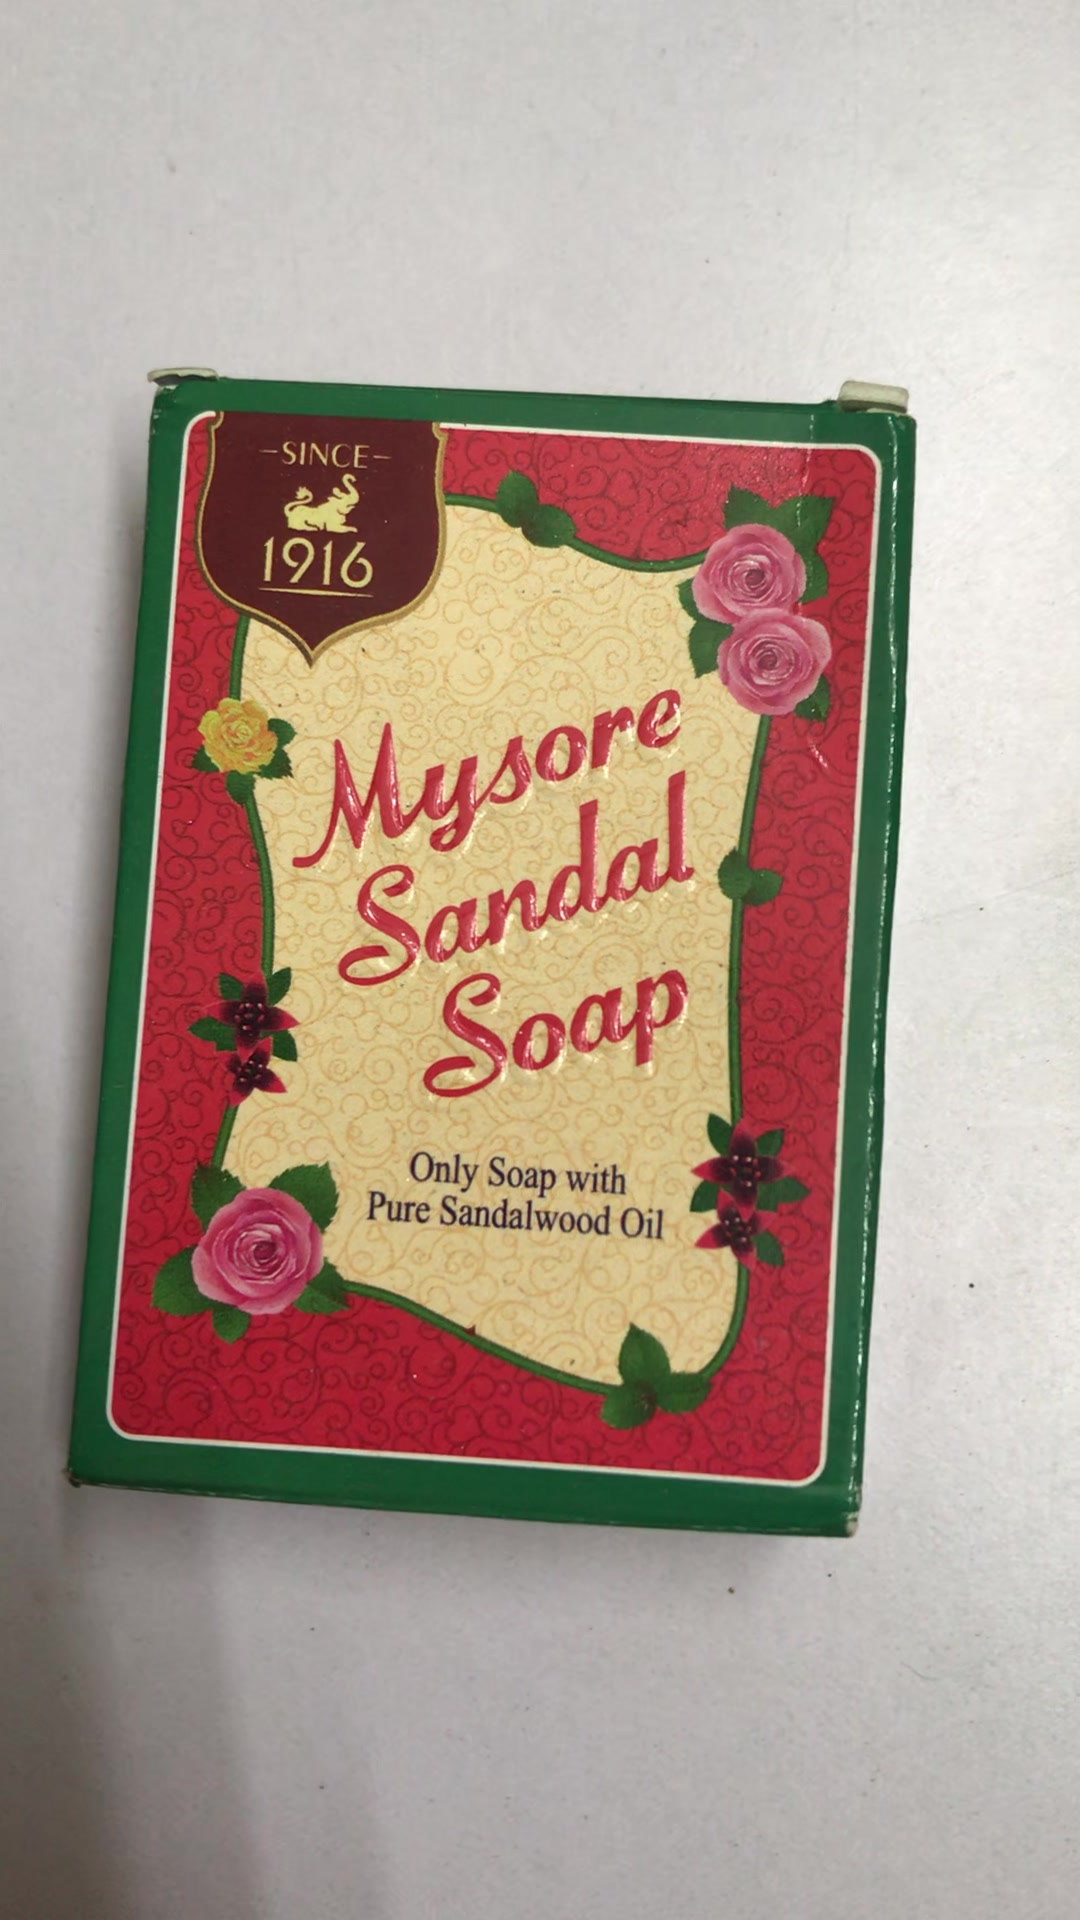mysore sandal soap: (63, 361, 913, 1528)
